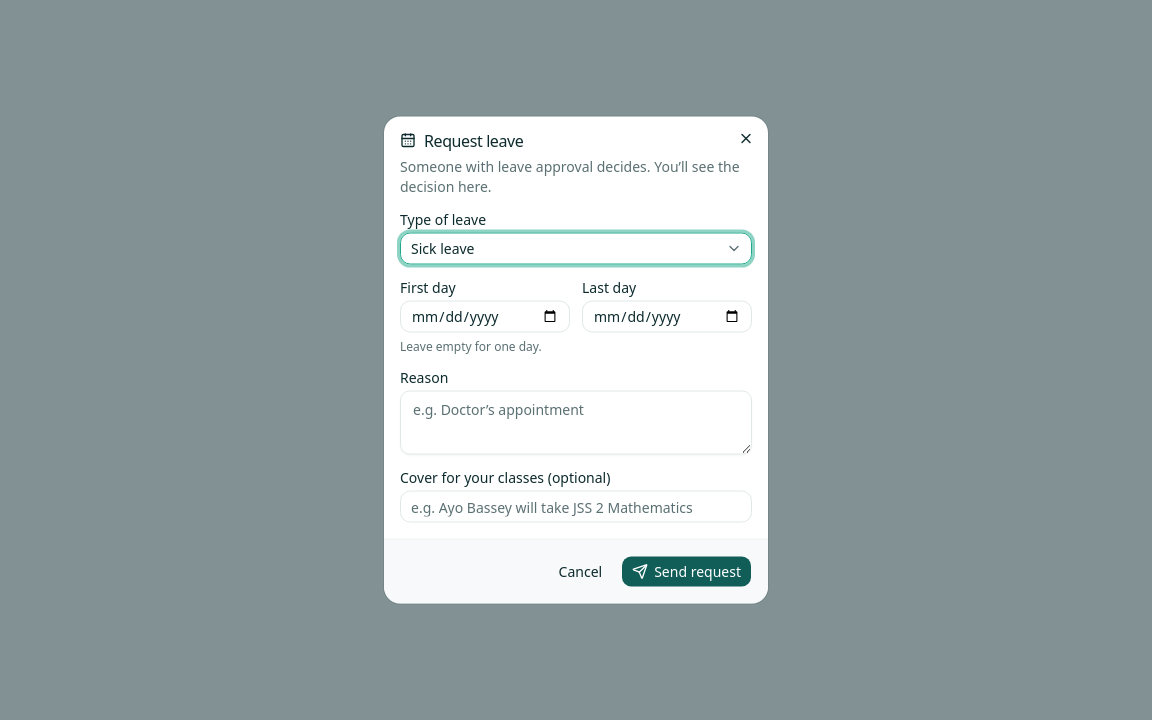
RequestLeaveDialog › shows any other refusal in the form
Type "2026-10-22" into the date field labelled "First day" at (485, 316), box [400, 300, 570, 332]
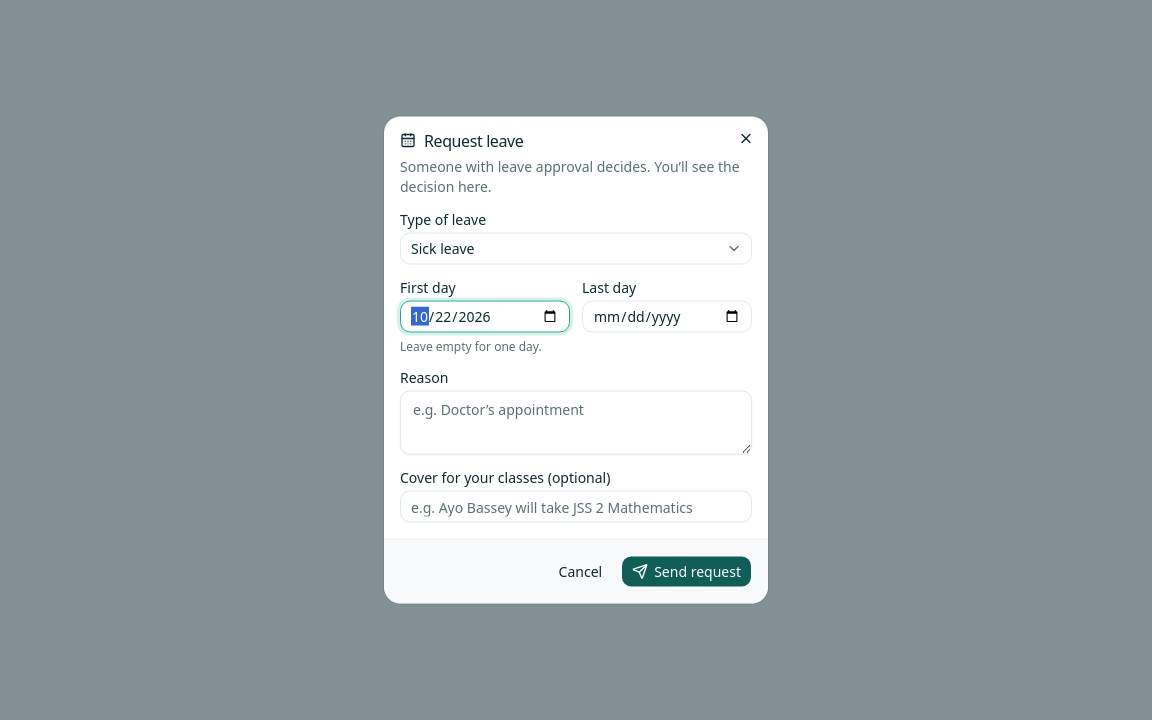
Type "Trip" into the text box labelled "Reason" at (576, 422), box [400, 390, 752, 454]
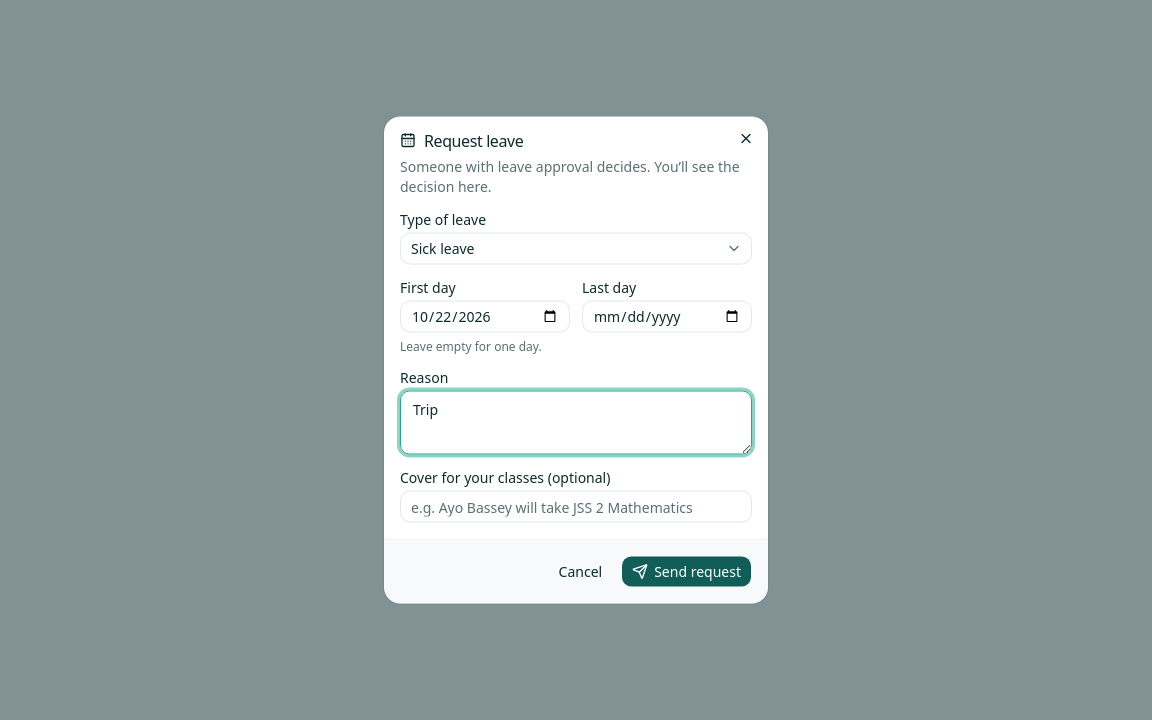
Click the button "Send request" at (687, 572), box [621, 556, 752, 588]
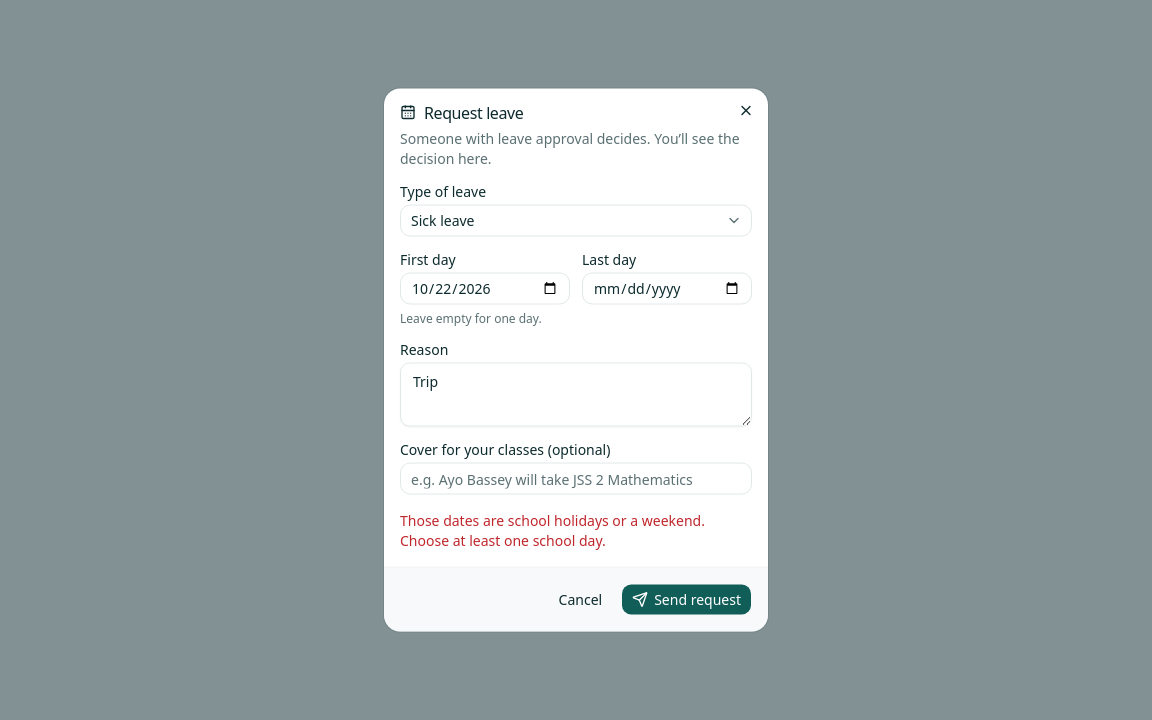
Check: the text "Those dates are school holidays or a weekend. Choose at least one school day." is shown, box [400, 510, 752, 550]
